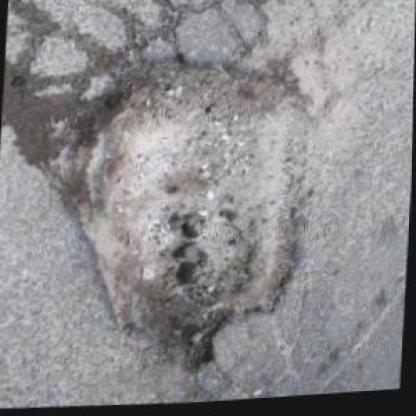pothole: (48, 42, 319, 384)
